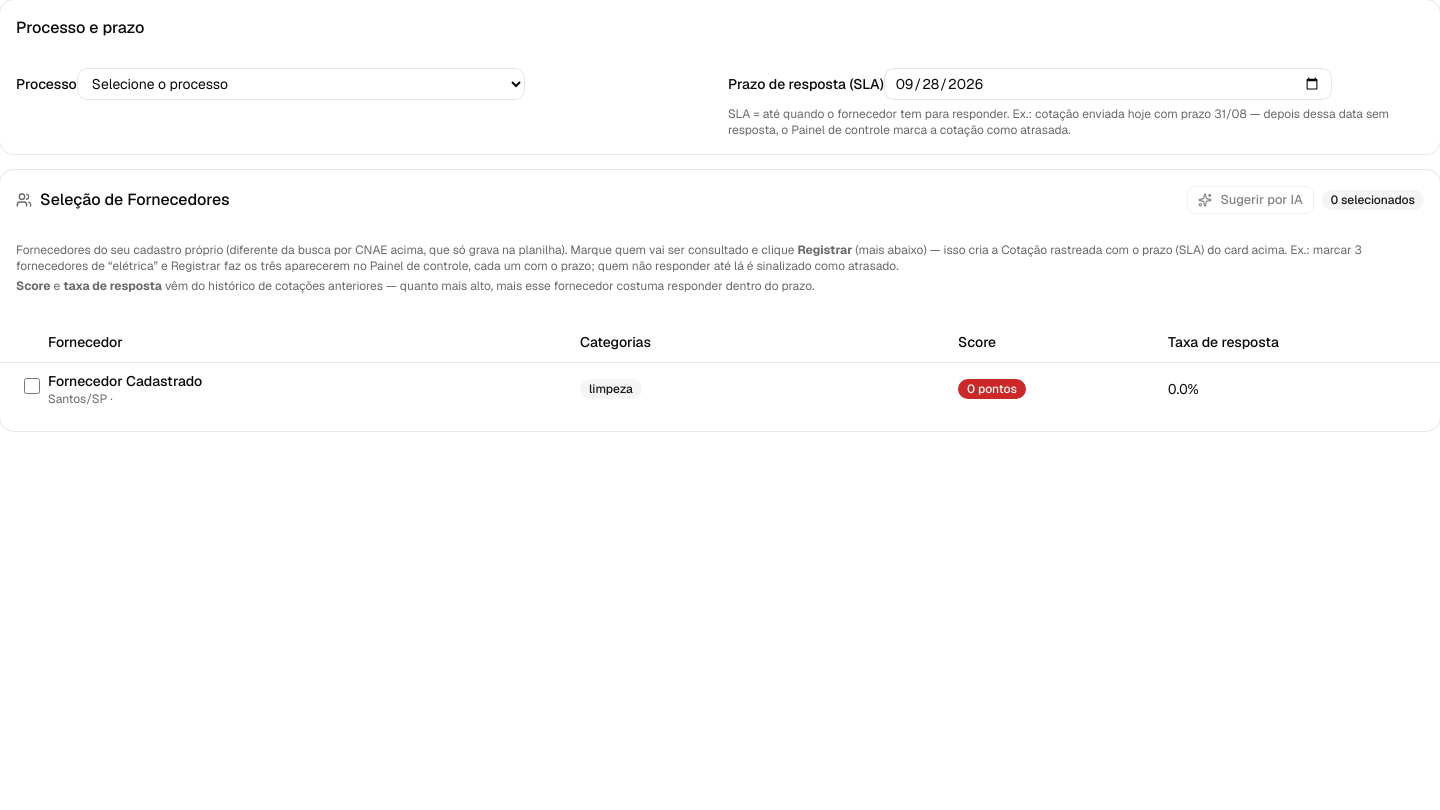
Test: posição do painel de CNAEs › aparece assim que um processo é selecionado
Select "0908/2022 — Limpeza predial" in the dropdown at [301, 84], box [77,68,525,100]
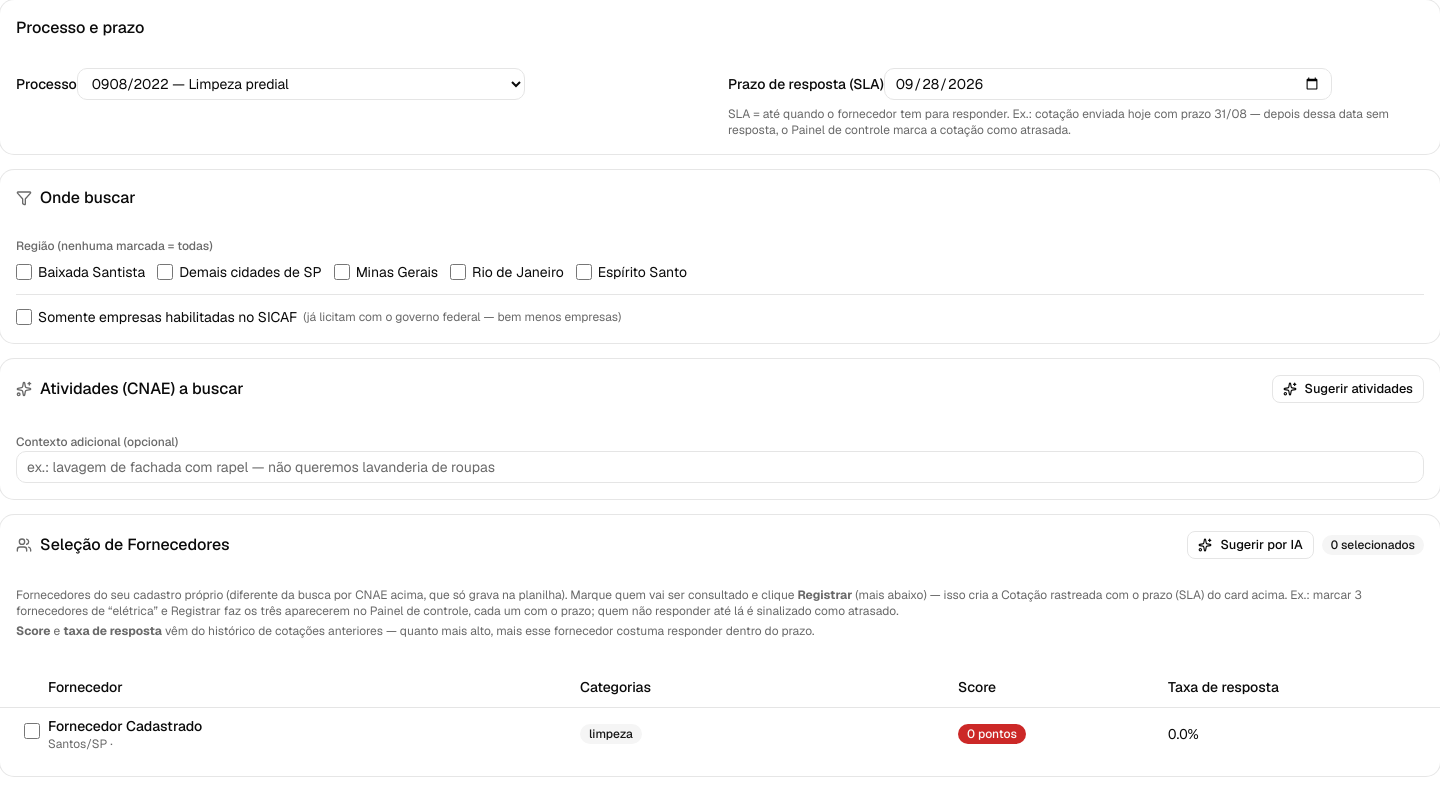
Now the text "Atividades (CNAE) a buscar" is shown, box [16,377,244,401]
